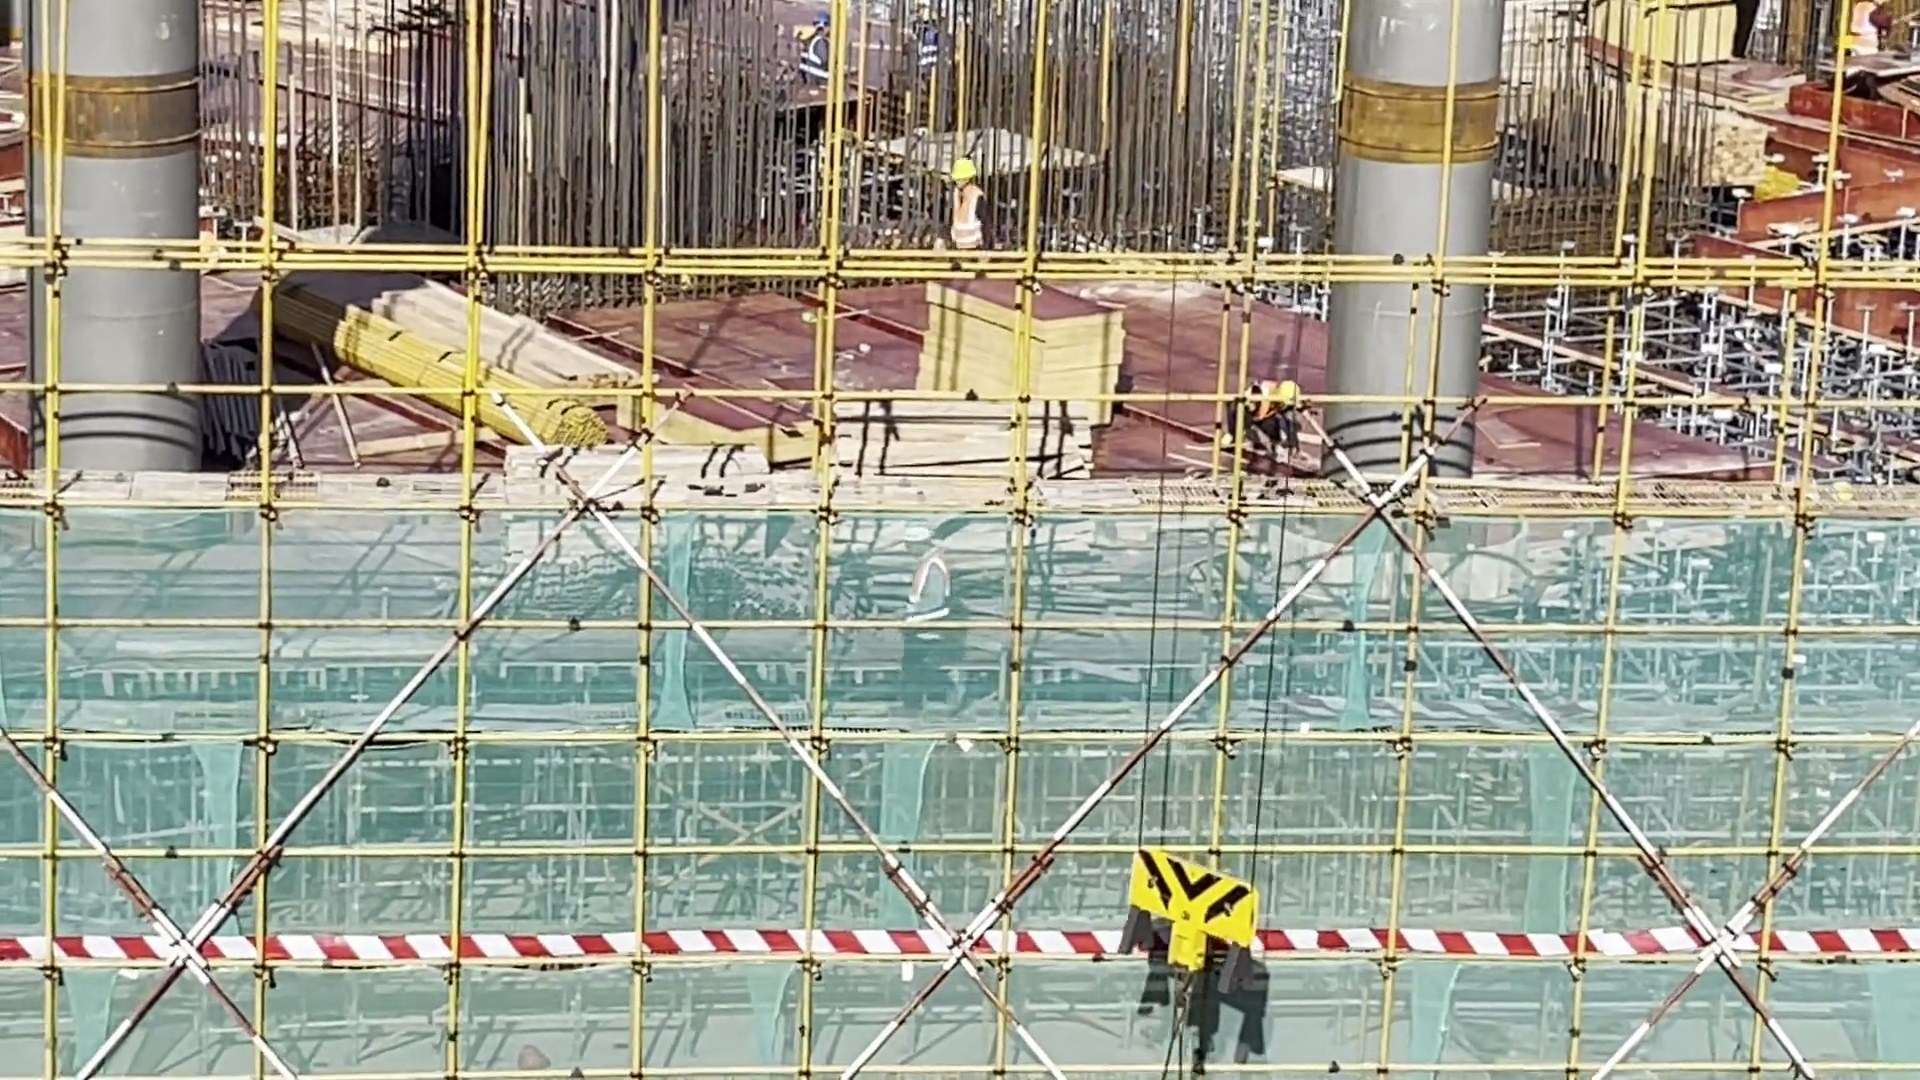board: (928, 273, 1123, 429)
helmet: (950, 157, 979, 183)
hook: (1132, 849, 1258, 995)
person: (1247, 381, 1309, 464), (939, 157, 990, 249)
vest: (951, 190, 987, 250)
wood: (336, 268, 638, 441), (1693, 99, 1782, 196)
